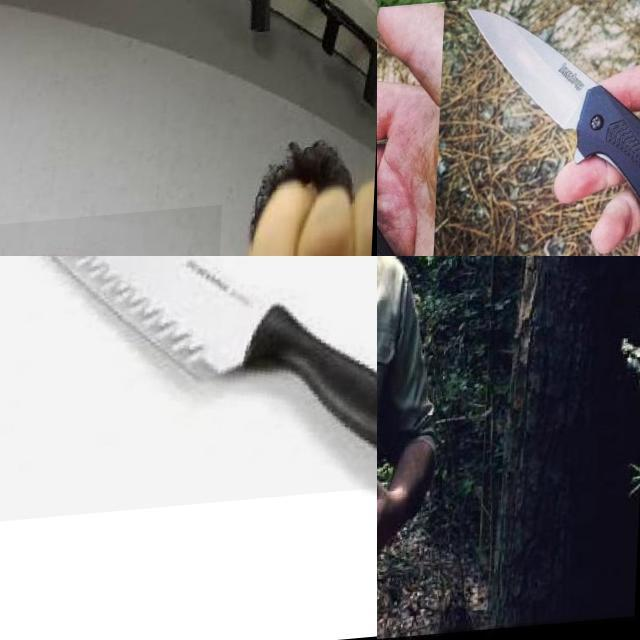-: (0, 256, 377, 528), (453, 0, 640, 256), (377, 10, 520, 256), (377, 0, 511, 159), (511, 0, 640, 60), (377, 265, 409, 455)
